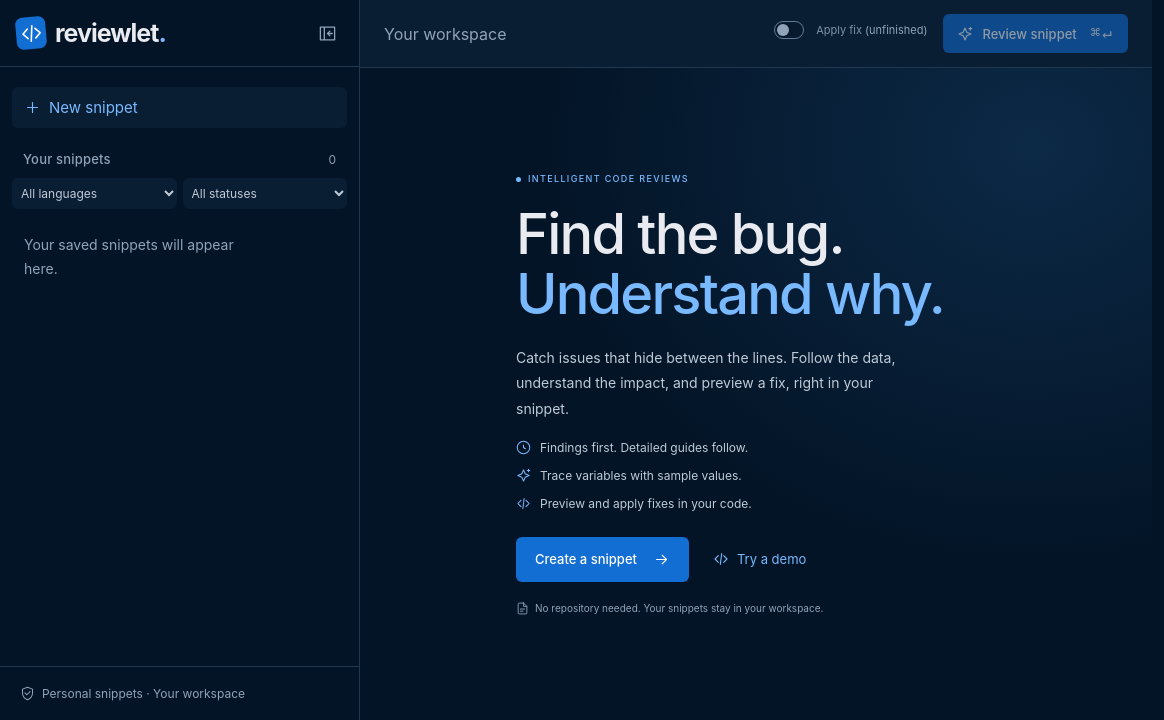
snippet editor workspace › retains successfully created demos if a later save fails
Click the button "Try a demo" at (760, 559), box [705,537,814,582]
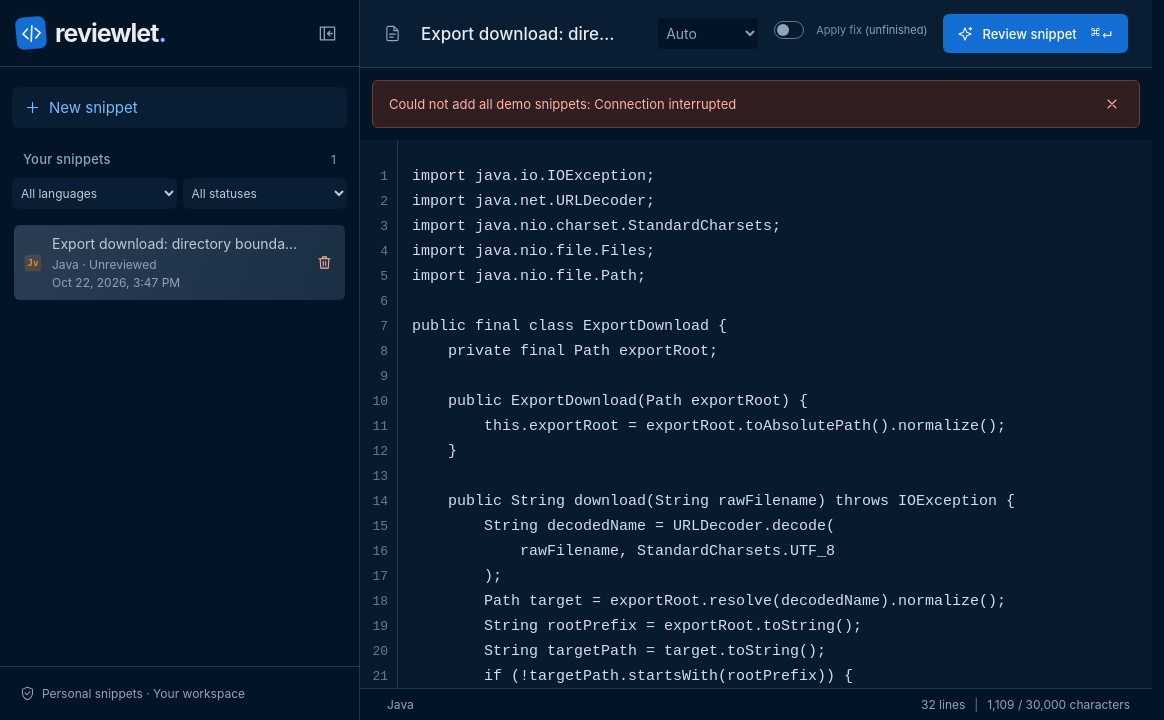
Expected: the message reads "Could not add all demo snippets: Connection interrupted", [389,96,736,112]
